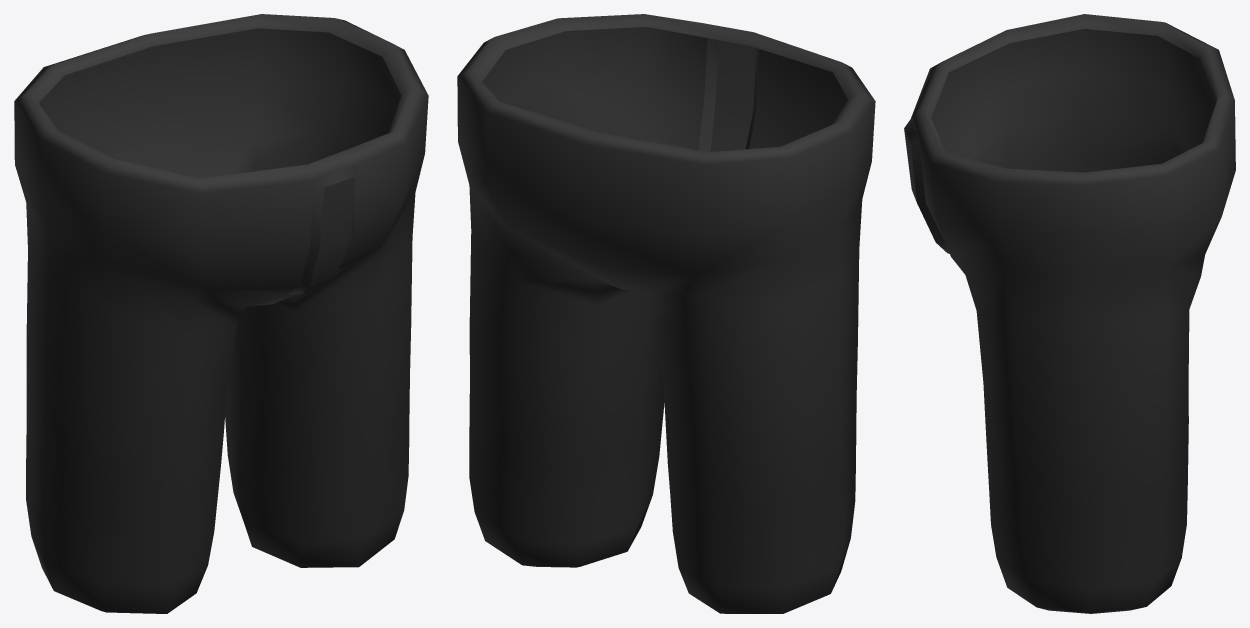
File: Bottom_36.fbx
3 renders of one model, left to right at view 1: azimuth 30°, elevation 25°; view 2: azimuth 150°, elevation 25°; view 3: azimuth 270°, elevation 25°, orthographic. The views are drawn at different scales.
Visible parts, largest first — view 1: Bottom_36; view 2: Bottom_36; view 3: Bottom_36.
Boxes of the visible parts, x1,y1,x2,y2 form: Bottom_36: (14, 14, 428, 613); Bottom_36: (457, 14, 875, 613); Bottom_36: (904, 14, 1235, 613).
Size of the model in its own units: 38.42 by 48.68 by 31.97.
